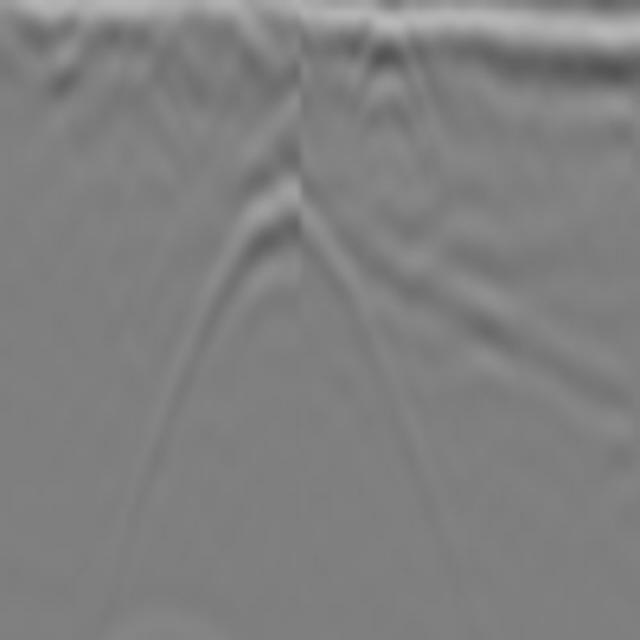hyperbola: (196, 186, 367, 392)
